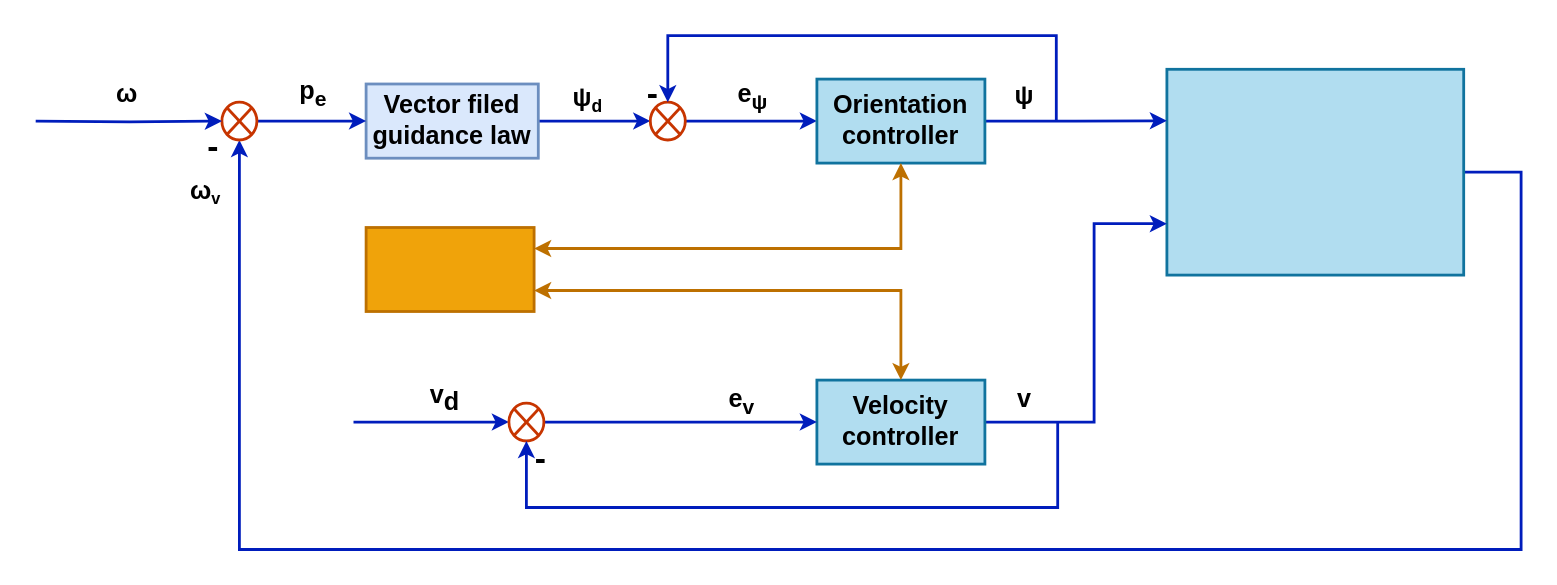
Some shapes in this 1557 by 585 pixel diagram are drawn without their labels. Each missing label, with the box of its shape:
Kinetmatic model: (1165, 67, 1464, 276)
Optimization Algorithm: (364, 225, 535, 312)
